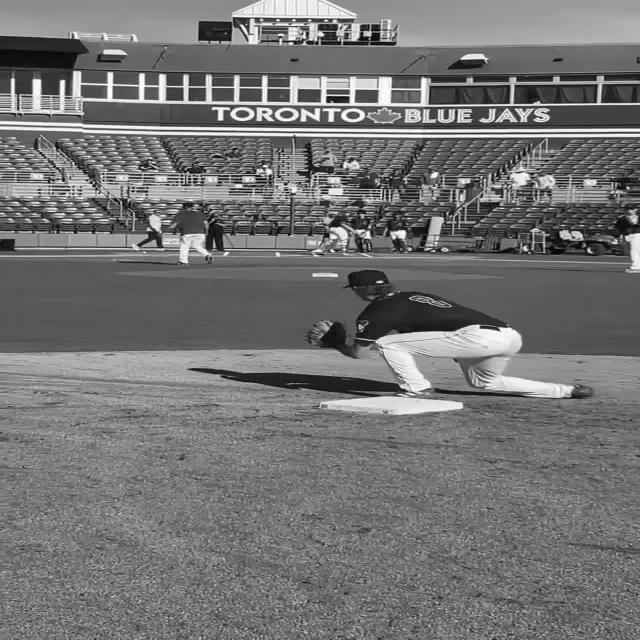base: (316, 395, 464, 415)
baseball_glove: (304, 319, 346, 349)
shoe: (392, 388, 442, 399), (569, 384, 593, 398), (205, 254, 213, 264), (624, 268, 640, 273), (176, 261, 188, 265), (132, 244, 140, 250)
